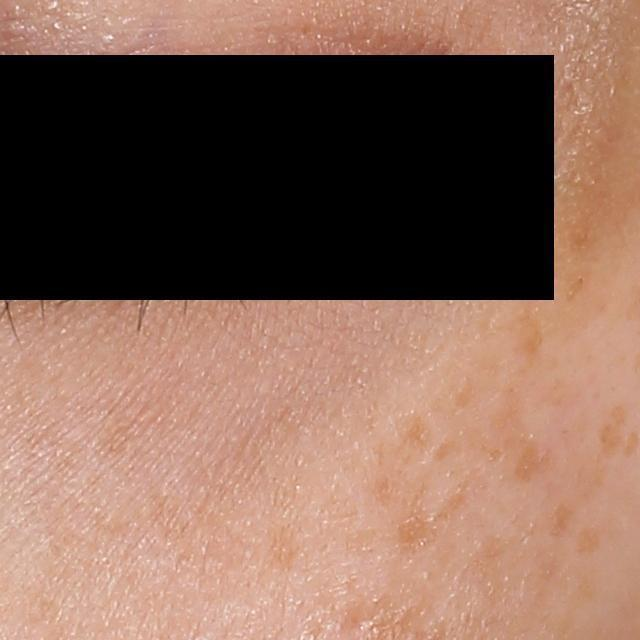melasma: (508, 302, 548, 376), (385, 504, 438, 557), (435, 468, 482, 521), (489, 383, 531, 439), (267, 520, 308, 573), (502, 441, 545, 486), (397, 409, 439, 455), (597, 400, 624, 455), (455, 373, 483, 414), (576, 523, 605, 561), (548, 503, 577, 533), (433, 435, 461, 462)
